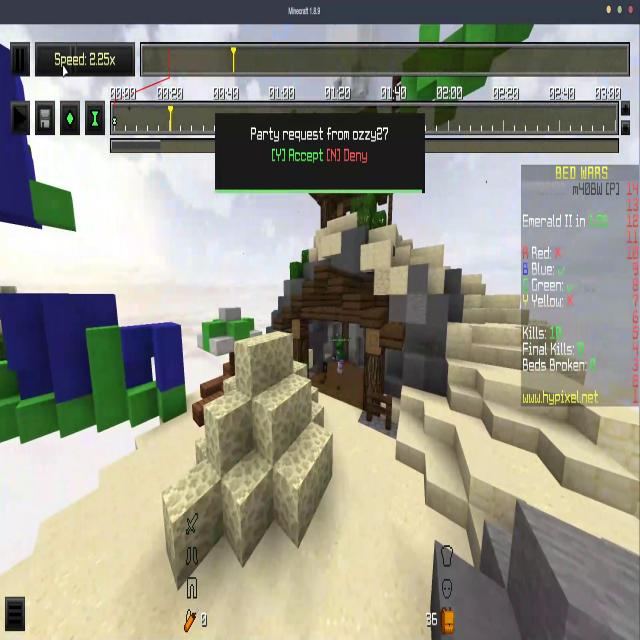Player: (330, 333, 347, 377)
